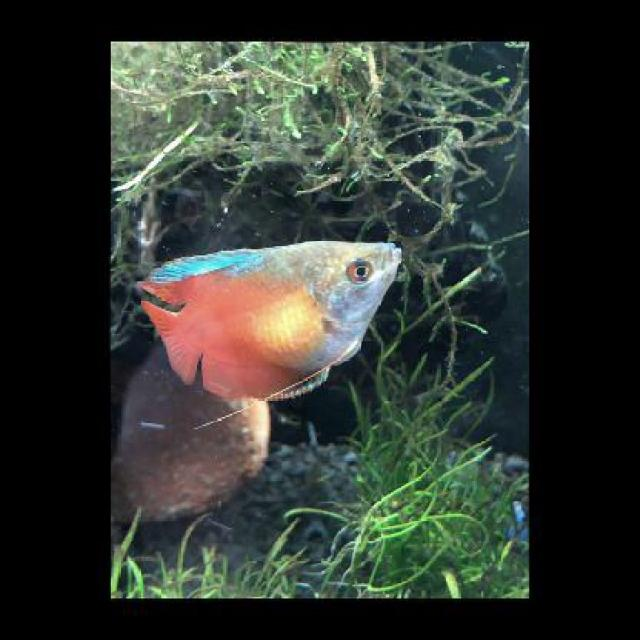Gourami: (134, 235, 403, 408)
